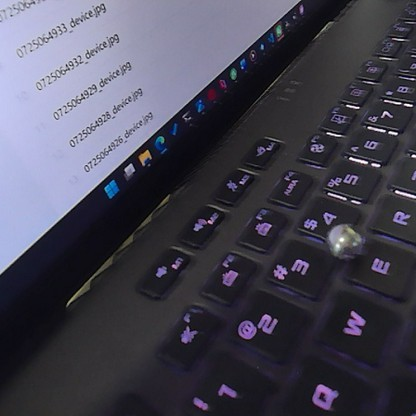ironball: (322, 219, 367, 264)
